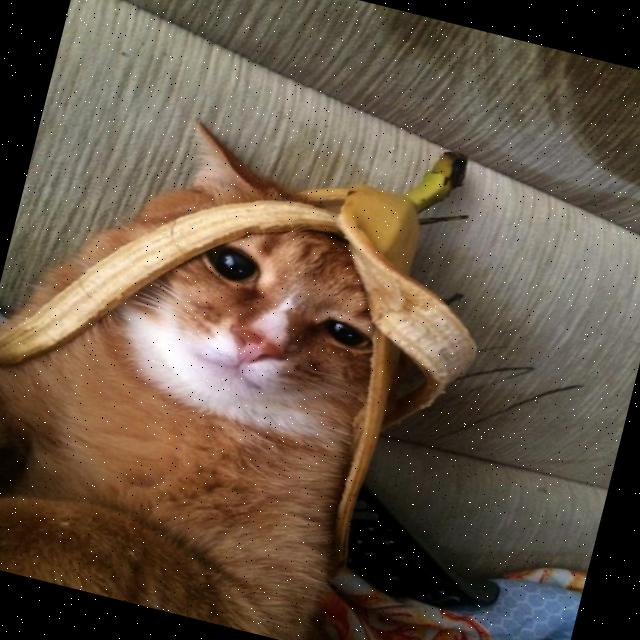cat: (0, 100, 474, 640)
